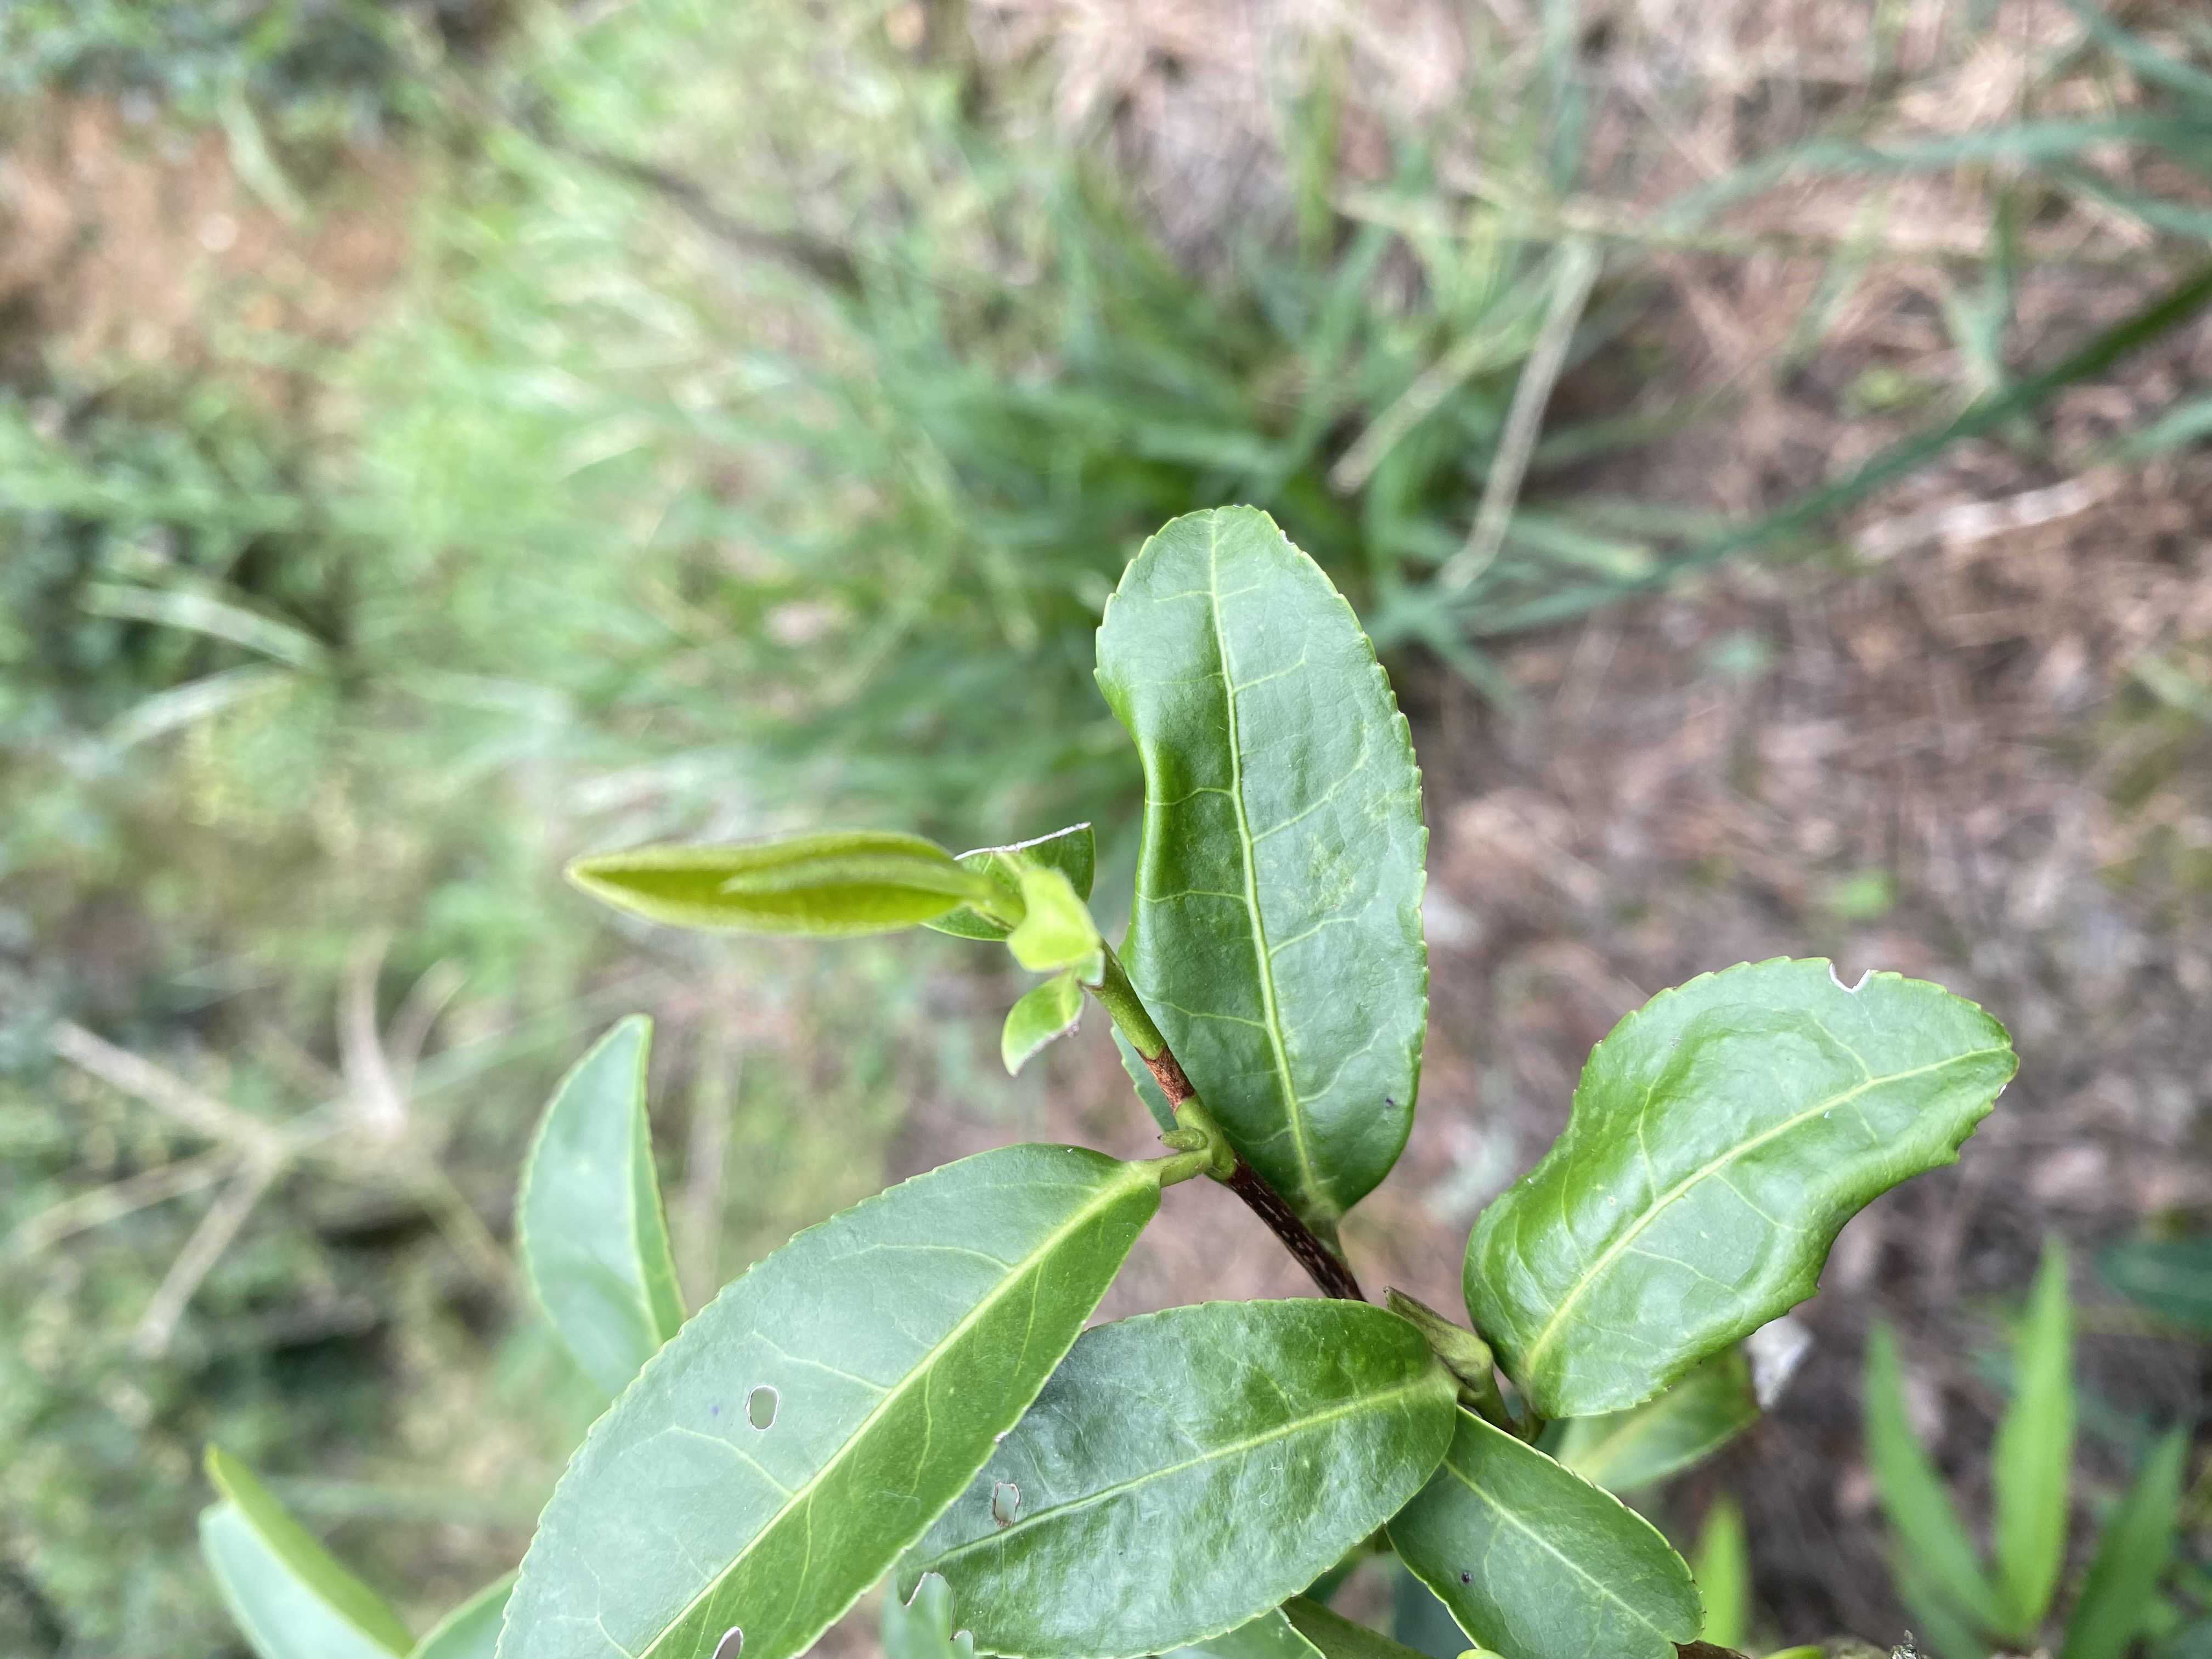chihuo_high: (491, 1143, 1157, 1657), (899, 1298, 1458, 1659)
chihuo_low: (1458, 955, 2019, 1424)
healthy: (1090, 502, 1430, 1225)
tanju_low: (1390, 1412, 1707, 1656)
